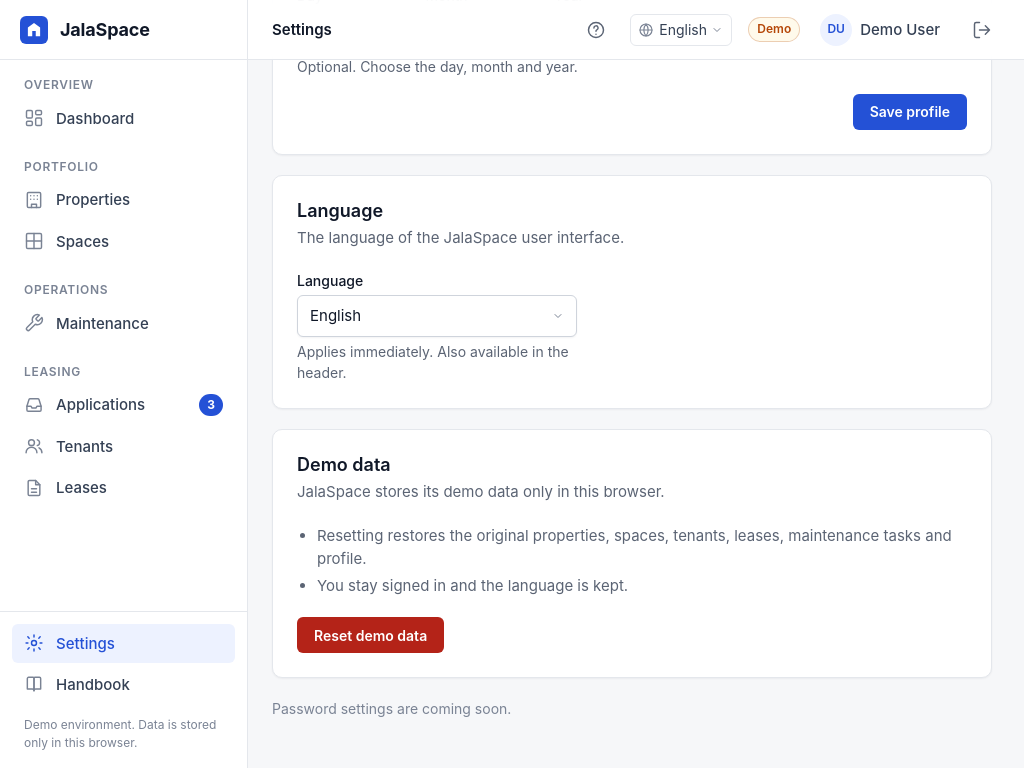
Scenario: settings: demo data reset › shows an error in the dialog when the reset fails
This screenshot has width=1024, height=768.
(page scrolled)
Click the button "Reset demo data" at (371, 635), box [297, 617, 444, 653]
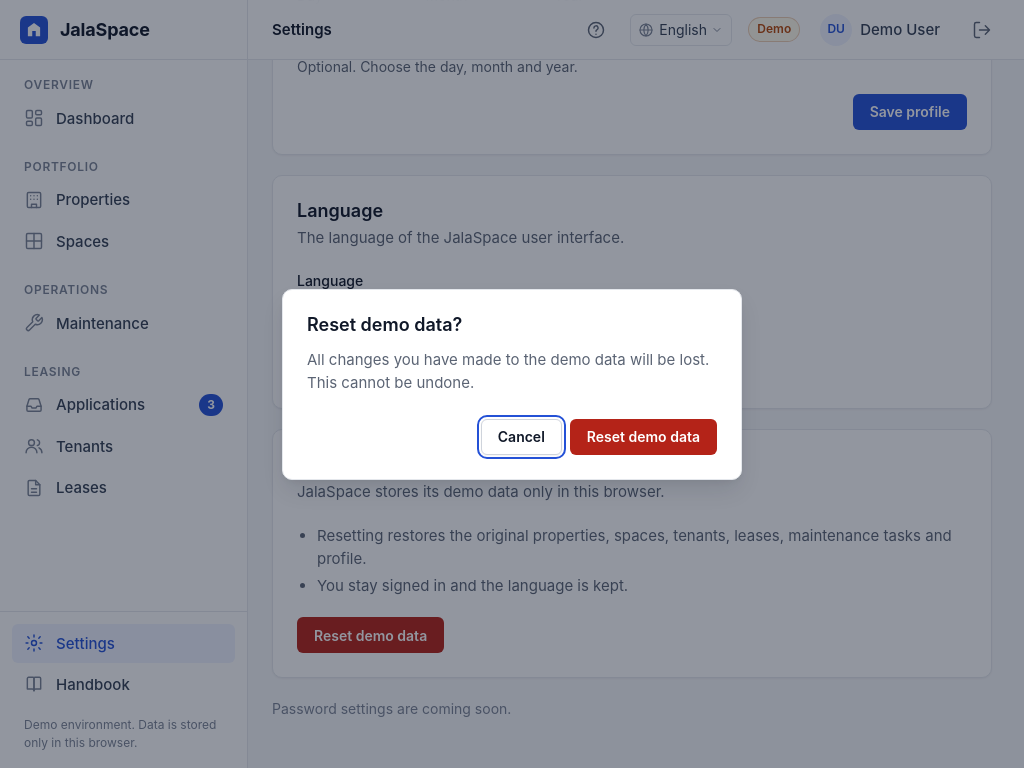
Click the button "Reset demo data" at (643, 436), box [570, 418, 717, 454]
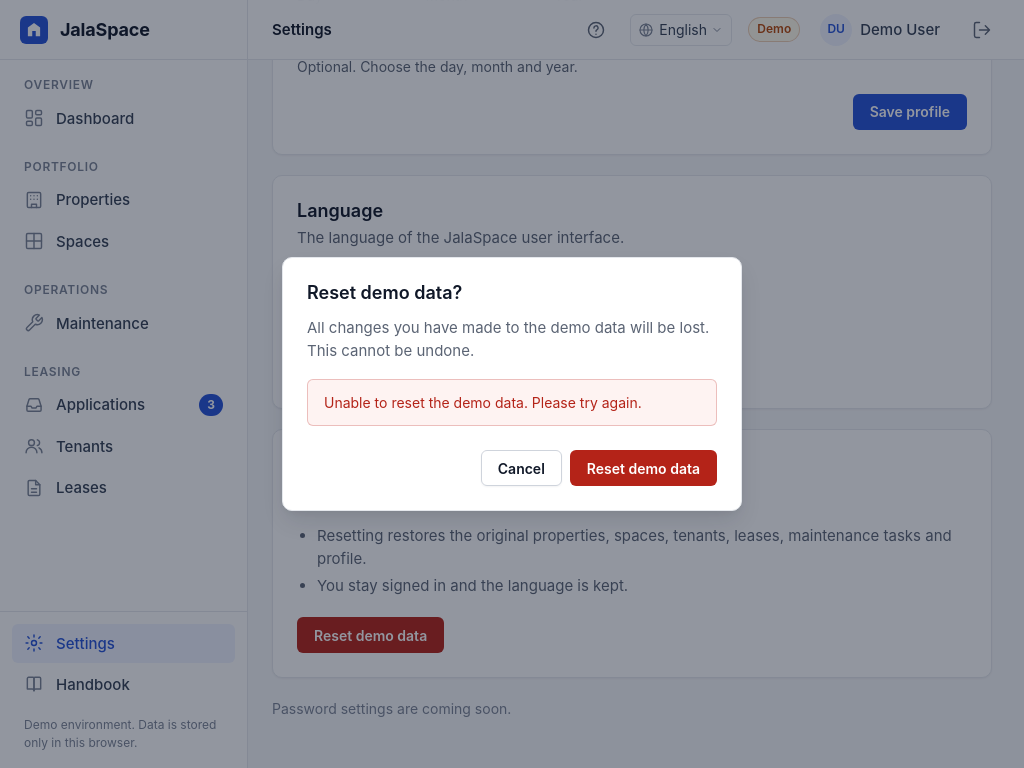
expect the button "Reset demo data" is enabled: met, box [570, 450, 717, 486]
expect the message reads "Unable to reset the demo data. Please try again.": met, box [324, 394, 642, 411]
